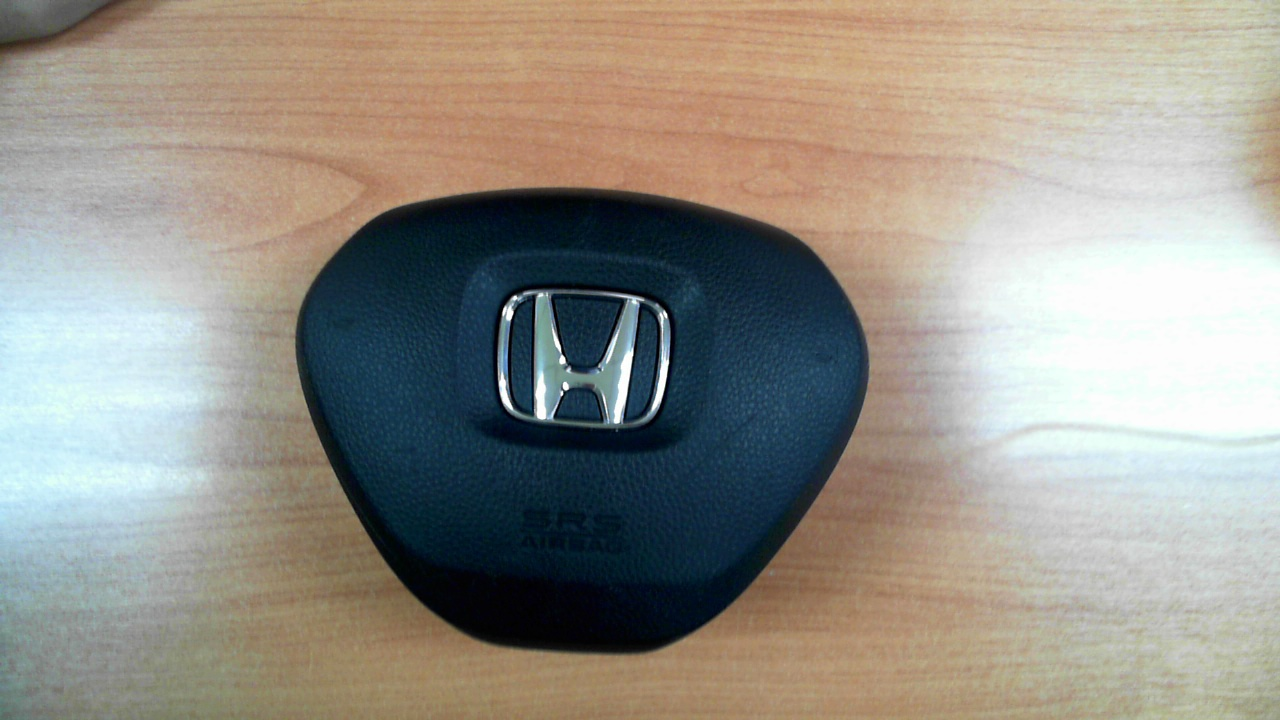Airbag: (294, 188, 869, 656)
Honda: (497, 288, 671, 429)
